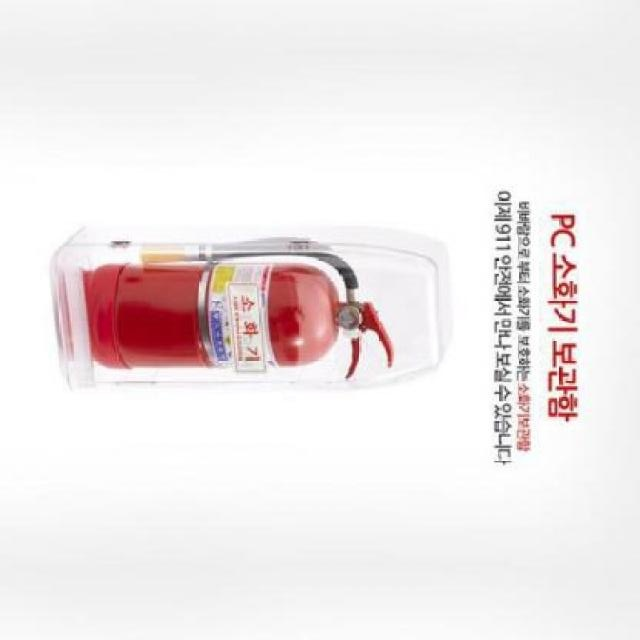fire extinguisher: (81, 236, 394, 381)
